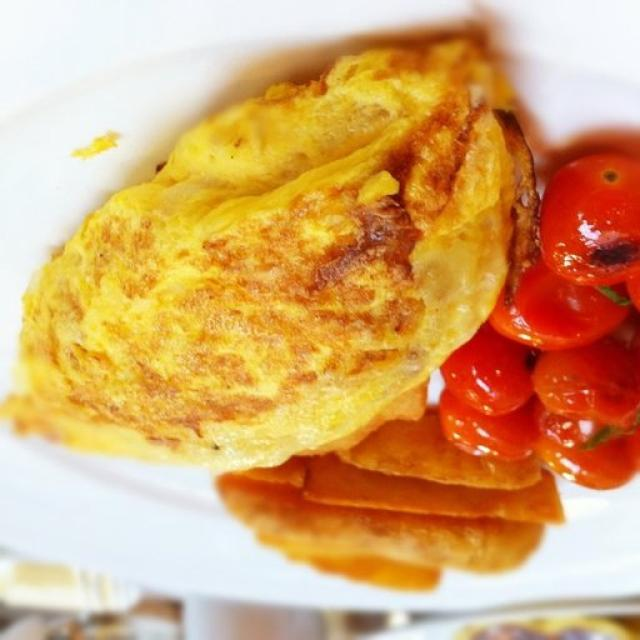telur_ayam_dadar: (2, 36, 540, 476)
